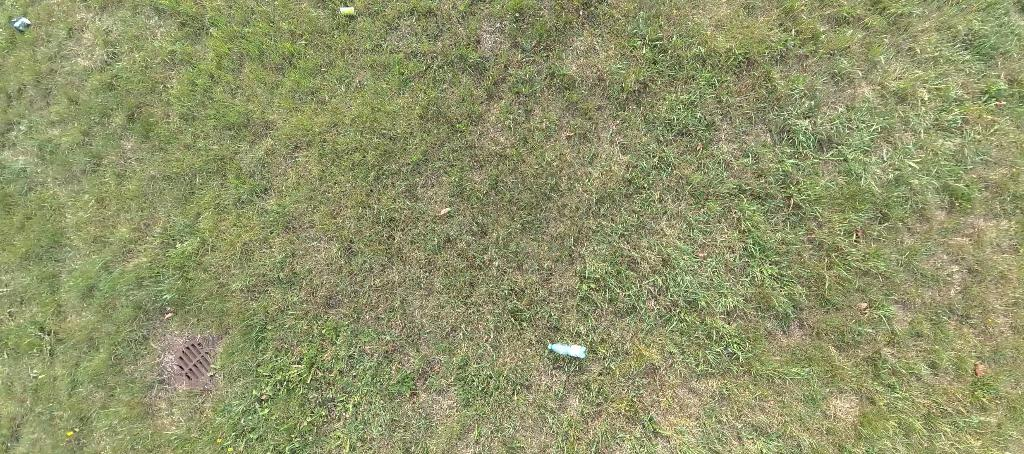garbage: (547, 341, 587, 361)
